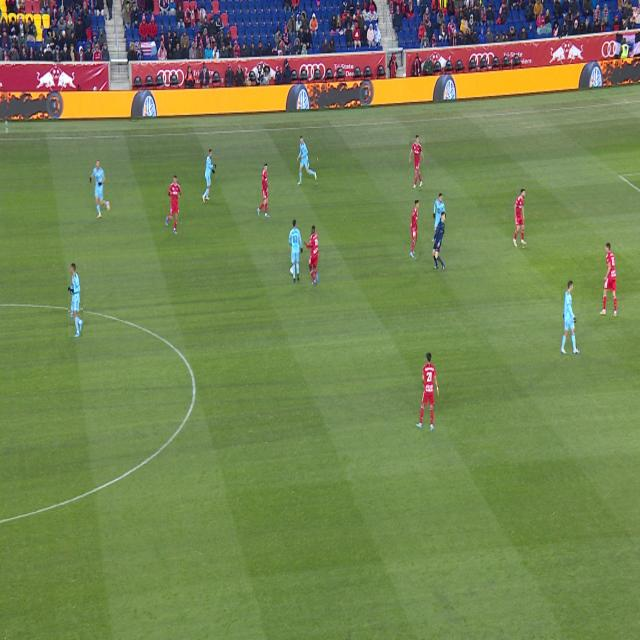football: (289, 266, 293, 275)
player: (416, 353, 439, 430), (561, 281, 580, 354), (599, 243, 617, 317), (90, 159, 110, 219), (68, 263, 83, 337), (298, 136, 317, 185), (166, 175, 181, 234), (304, 226, 319, 285), (409, 136, 425, 189), (289, 219, 302, 282), (513, 190, 527, 247), (202, 149, 216, 203), (257, 163, 270, 218), (410, 201, 419, 258), (434, 193, 445, 234)
referee: (432, 212, 445, 273)
